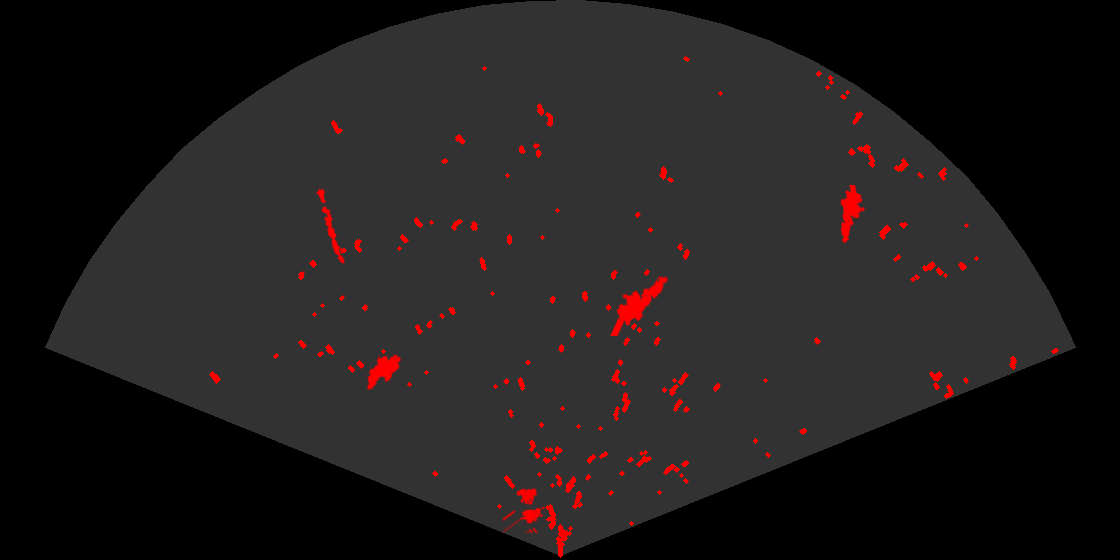AUV: (365, 353, 403, 392)
cage: (503, 487, 546, 533)
chain: (315, 186, 346, 266)
frogman: (609, 275, 670, 336), (839, 185, 867, 245)
